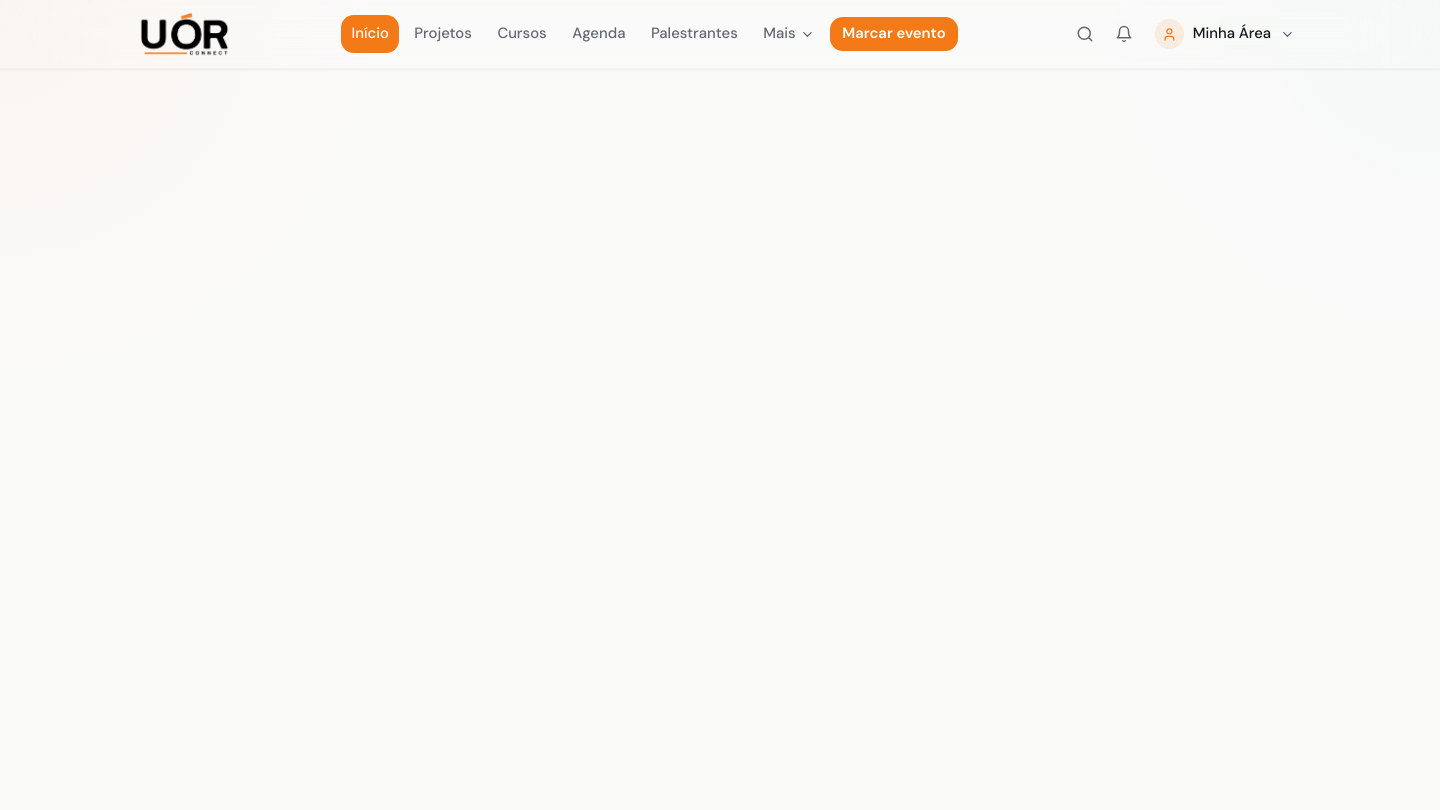
Scenario: Navbar notification center › mostra candidaturas e cursos do utilizador autenticado no centro
What coordinates should you click on to do the following:
click the button named "centro de notificações"
I would click on:
 (1124, 34)
Its box is top-left (1107, 16), bottom-right (1142, 52).
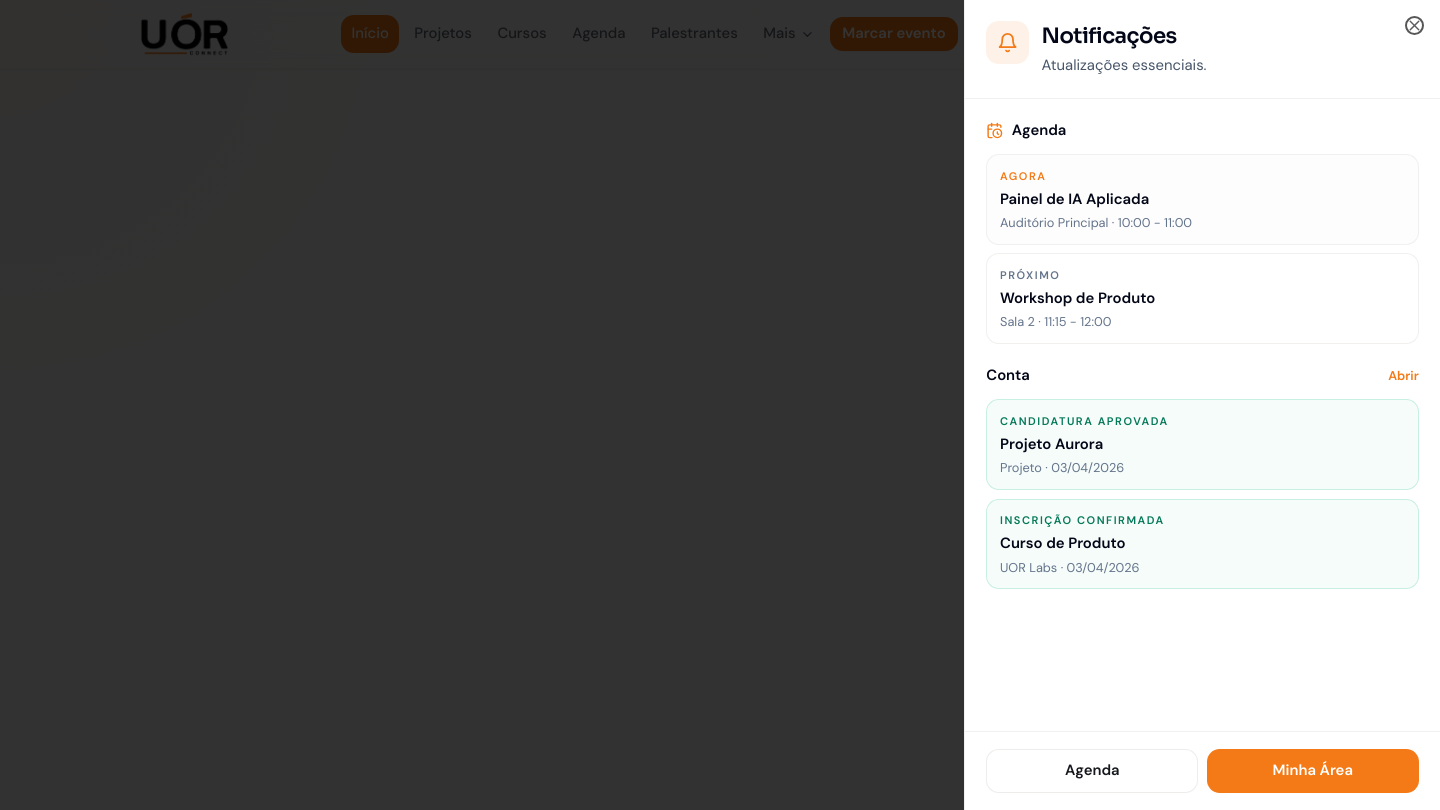
Check: the text "Projeto Aurora" is shown, box top-left (1000, 434), bottom-right (1103, 454)
Check: the text "Curso de Produto" is shown, box top-left (1000, 533), bottom-right (1126, 553)
